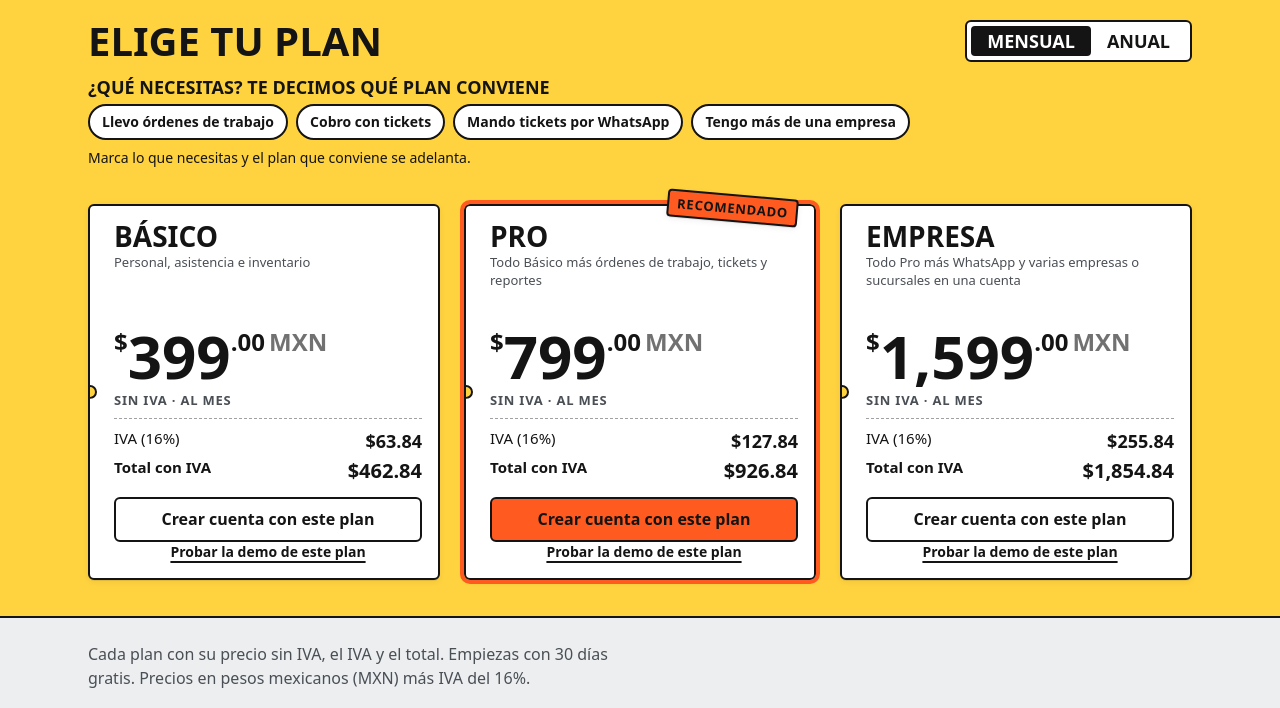
Scenario: PricingSection › al quitar la selección vuelve el sello Recomendado
Click the checkbox labelled "Mando tickets por WhatsApp".
click(568, 122)  # box left=453, top=104, right=683, bottom=140
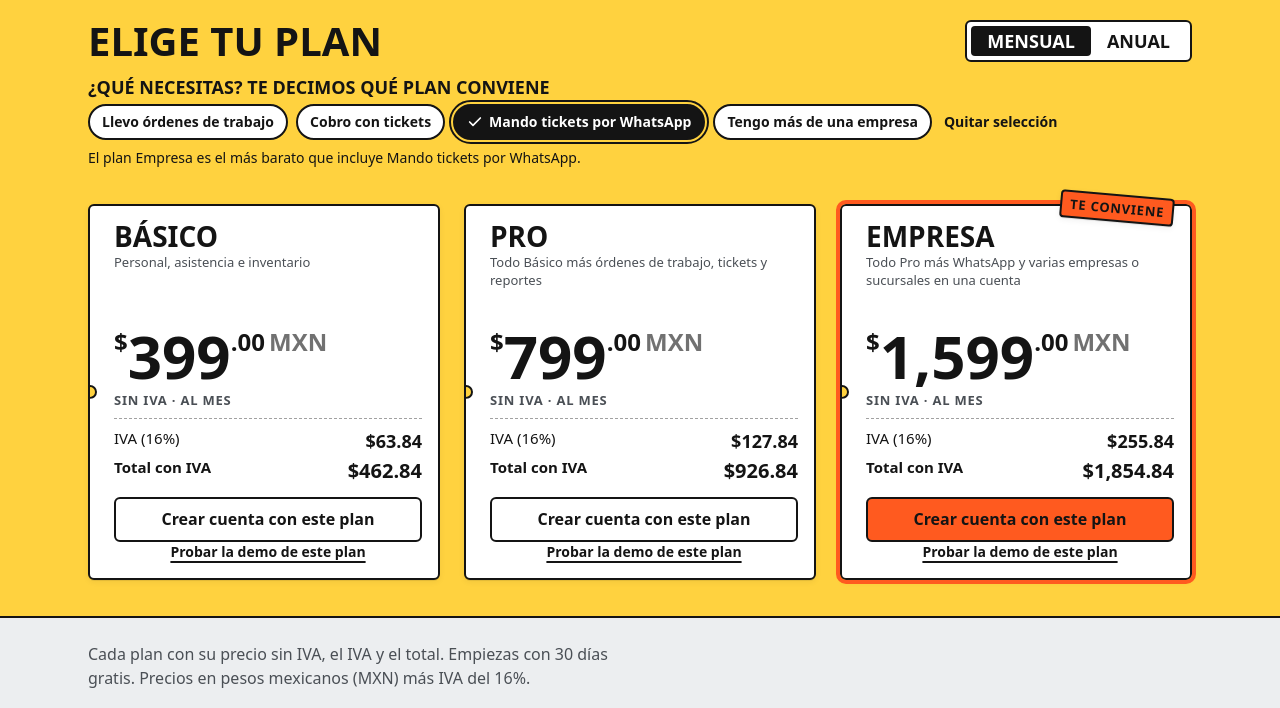
Click the button "Quitar selección".
click(1001, 122)  # box left=940, top=104, right=1061, bottom=140
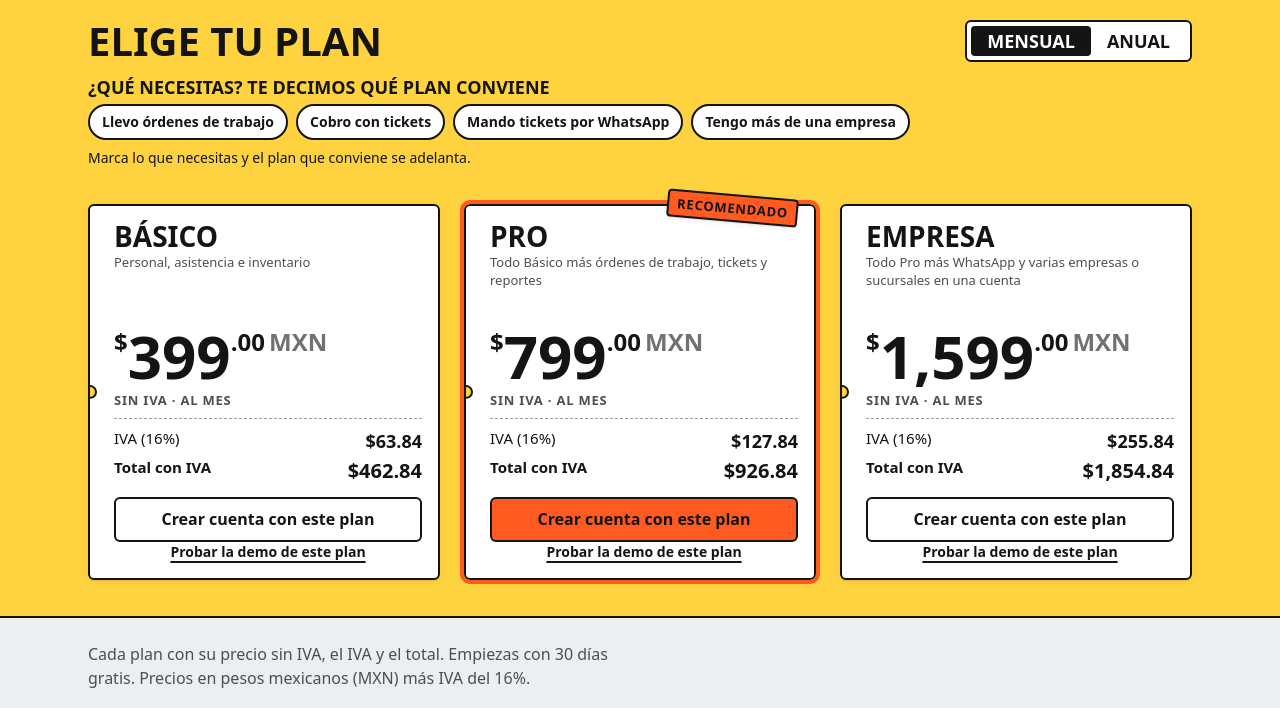
Result: the text "Te conviene" is gone
Result: the text "Recomendado" is shown at left=666, top=188, right=799, bottom=228
